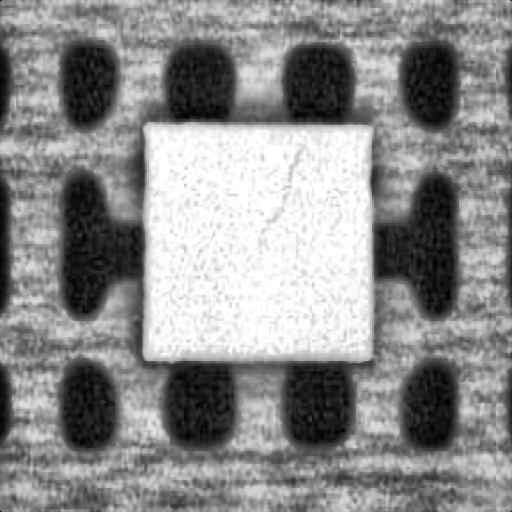DIE_CRACK: (257, 140, 305, 234)
